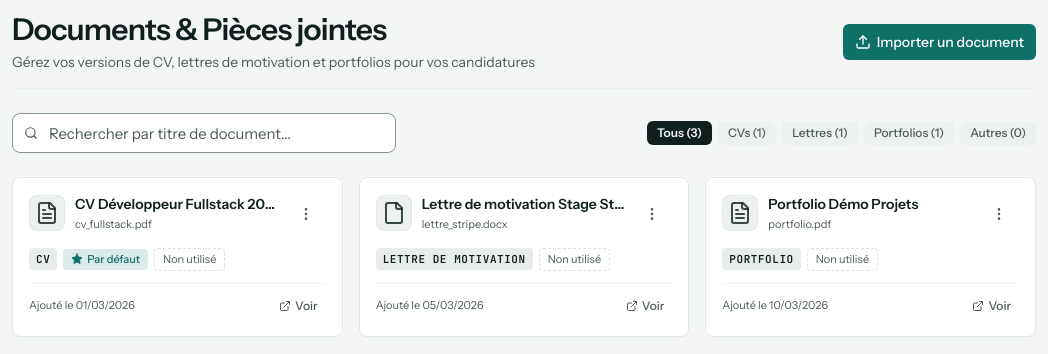
Test case: Page: DocumentsPage › filters documents by search query
Check: the heading "CV Développeur Fullstack 2026" is shown, box [75,194,278,214]
Type "Stripe" into the field with placeholder "Rechercher par titre de document...". click: (204, 133)
box: [12,113,396,153]
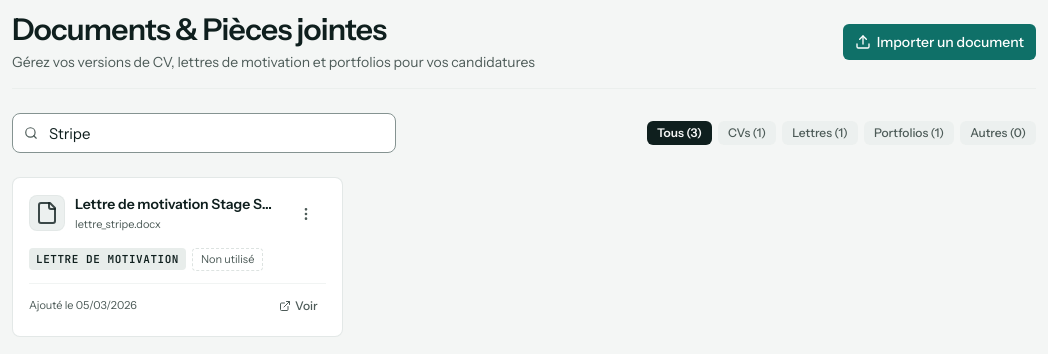
Check: the heading "Lettre de motivation Stage Stripe" is shown, box [75,194,278,214]
Check: the heading "CV Développeur Fullstack 2026" is gone
Check: the heading "Portfolio Démo Projets" is gone
